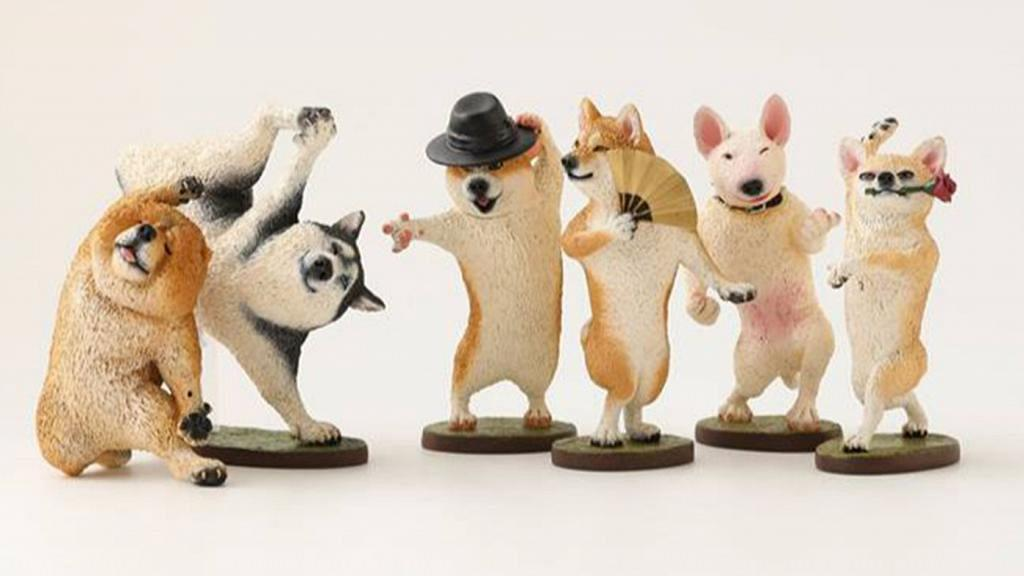dog: (112, 60, 388, 446), (556, 80, 750, 451), (18, 166, 232, 497), (381, 85, 578, 432), (816, 106, 991, 459), (682, 83, 843, 433)
